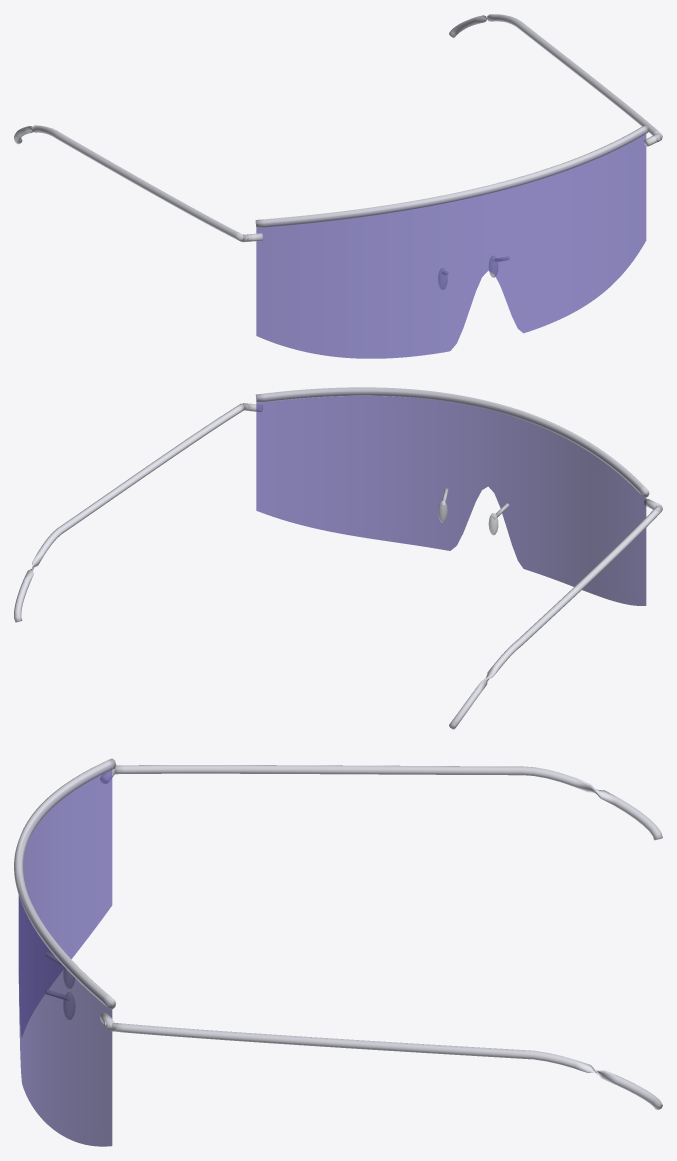
The model's file is tim-11-v1.glb.
The picture shows the model from 3 angles, top to bottom: view 1: azimuth 30°, elevation 25°; view 2: azimuth 150°, elevation 25°; view 3: azimuth 270°, elevation 25°; orthographic projection. The views are drawn at different scales.
Visible parts, largest first — view 1: lens_shield, shield_upper_rail, temple_right, temple_left; view 2: lens_shield, shield_upper_rail, temple_left, temple_right; view 3: lens_shield, temple_left, temple_right, shield_upper_rail.
Boxes of the visible parts, bbox=[...] form: lens_shield: bbox=[256, 134, 646, 358]; shield_upper_rail: bbox=[255, 124, 649, 228]; temple_right: bbox=[14, 125, 244, 241]; temple_left: bbox=[449, 14, 662, 137]; lens_shield: bbox=[256, 396, 646, 605]; shield_upper_rail: bbox=[255, 387, 649, 497]; temple_left: bbox=[14, 403, 244, 622]; temple_right: bbox=[449, 505, 662, 729]; lens_shield: bbox=[18, 770, 112, 1146]; temple_left: bbox=[111, 1023, 662, 1109]; temple_right: bbox=[113, 765, 662, 840]; shield_upper_rail: bbox=[14, 758, 116, 1009].
Bounding box in the file's own units: 0.1744 × 0.0565 × 0.1664.
